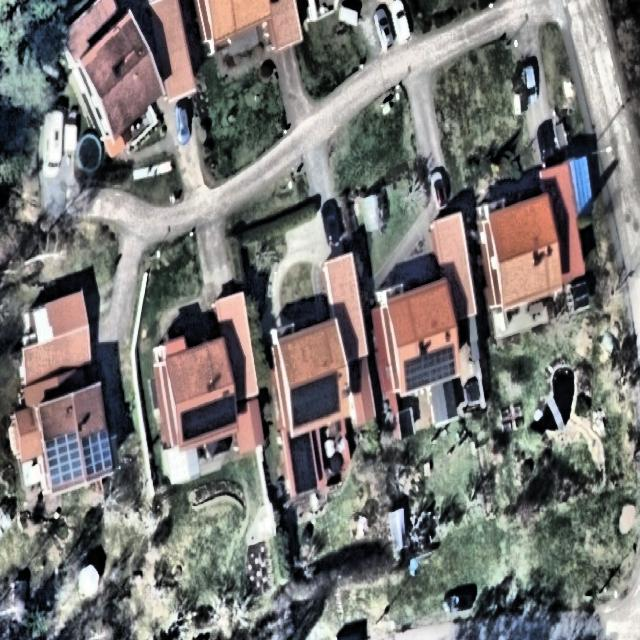roof_pv: (287, 370, 342, 435), (179, 392, 238, 443), (287, 424, 322, 503), (403, 345, 458, 393), (43, 430, 84, 490), (80, 429, 114, 481)
